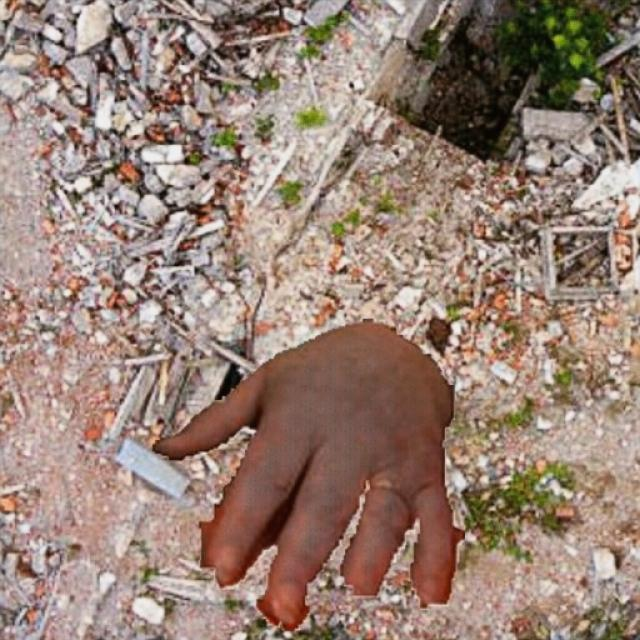Person in Rubble: (152, 319, 464, 630)
